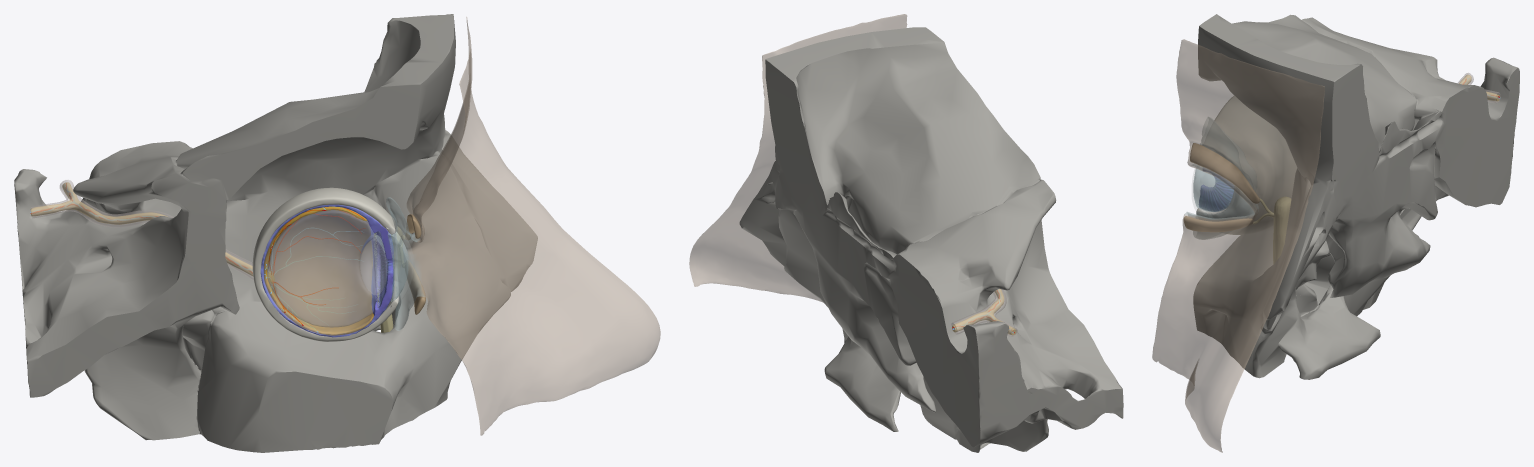
The picture shows the model from 3 angles, left to right: view 1: azimuth 30°, elevation 25°; view 2: azimuth 150°, elevation 25°; view 3: azimuth 270°, elevation 25°; orthographic projection. The views are drawn at different scales.
Visible parts, largest first — view 1: Bones10_Bones10_0, Skin_Skin_0, Choroid_Choroid_0, Optic_part_of_right_retina_Optic_part_of_right_retina_0, Glasvocht_Glasvocht_0, Sclera_Sclera_0, Anterior_chamber_Anterior_chamber_0, Tarsal_plate_upper_eyelid_Tarsal_plate_upper_eyelid_0, Lens_Lens_0; view 2: Bones10_Bones10_0, Skin_Skin_0, Anterior_chamber_Anterior_chamber_0, Optic_part_of_right_retina_Optic_part_of_right_retina_0; view 3: Bones10_Bones10_0, Skin_Skin_0, Sclera_Sclera_0, Tarsal_plate_upper_eyelid_Tarsal_plate_upper_eyelid_0, Anterior_chamber_Anterior_chamber_0, Choroid_Choroid_0.
Boxes of the visible parts, left/top/right/bottom form: Bones10_Bones10_0: left=14, top=14, right=537, bottom=452; Skin_Skin_0: left=386, top=17, right=660, bottom=435; Choroid_Choroid_0: left=260, top=204, right=394, bottom=337; Optic_part_of_right_retina_Optic_part_of_right_retina_0: left=30, top=182, right=373, bottom=335; Glasvocht_Glasvocht_0: left=267, top=207, right=376, bottom=327; Sclera_Sclera_0: left=252, top=187, right=398, bottom=341; Anterior_chamber_Anterior_chamber_0: left=31, top=180, right=413, bottom=305; Tarsal_plate_upper_eyelid_Tarsal_plate_upper_eyelid_0: left=30, top=195, right=425, bottom=332; Lens_Lens_0: left=360, top=234, right=387, bottom=294; Bones10_Bones10_0: left=739, top=27, right=1123, bottom=452; Skin_Skin_0: left=689, top=14, right=907, bottom=302; Anterior_chamber_Anterior_chamber_0: left=951, top=289, right=1017, bottom=336; Optic_part_of_right_retina_Optic_part_of_right_retina_0: left=952, top=289, right=1016, bottom=335; Bones10_Bones10_0: left=1193, top=14, right=1519, bottom=379; Skin_Skin_0: left=1152, top=39, right=1324, bottom=452; Sclera_Sclera_0: left=1196, top=95, right=1296, bottom=234; Tarsal_plate_upper_eyelid_Tarsal_plate_upper_eyelid_0: left=1183, top=79, right=1499, bottom=264; Anterior_chamber_Anterior_chamber_0: left=1192, top=73, right=1500, bottom=214; Choroid_Choroid_0: left=1199, top=169, right=1233, bottom=211.
Bounding box in the file's own units: 109 × 68.82 × 66.88.
Materials: 10 (10 with a texture image).
